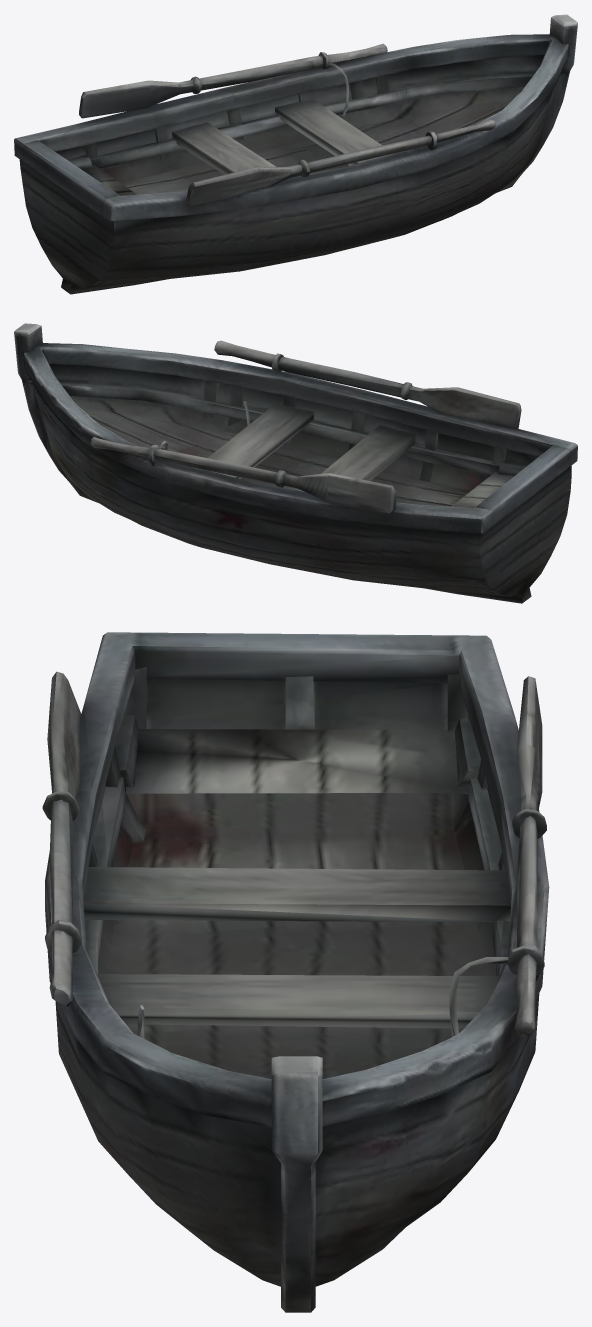
The model's file is boat.glb.
The picture shows the model from 3 angles, top to bottom: view 1: azimuth 30°, elevation 25°; view 2: azimuth 150°, elevation 25°; view 3: azimuth 270°, elevation 25°; orthographic projection. The views are drawn at different scales.
Parts seen in each view (by area): view 1: model; view 2: model; view 3: model.
Boxes of the visible parts, x1,y1,x2,y2 form: model: (14, 14, 577, 294); model: (14, 323, 577, 603); model: (42, 632, 549, 1312).
Bounding box in the file's own units: 3.21 × 1 × 1.38.
Materials: 1 (1 with a texture image).
